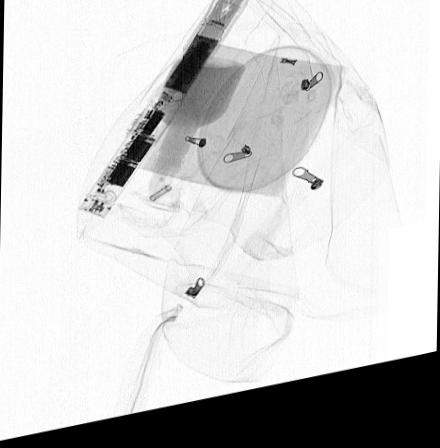Baton: (75, 0, 252, 224)
